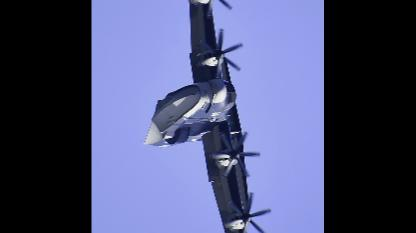Tu95: (143, 0, 273, 232)
